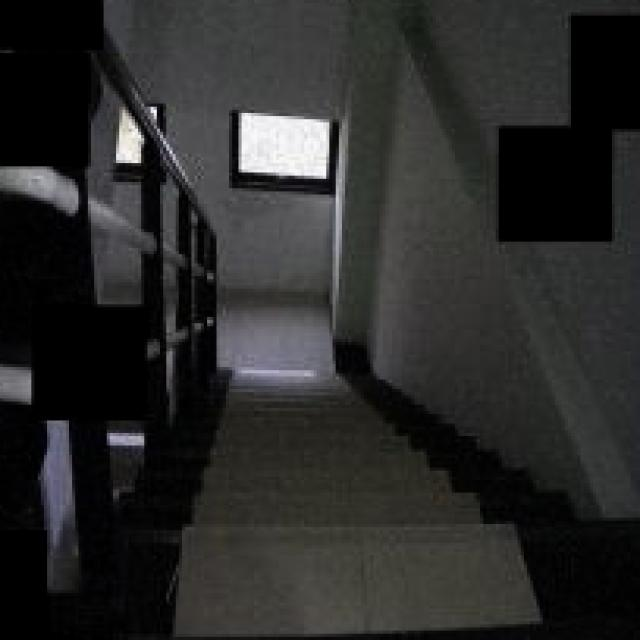downstair: (211, 346, 640, 640)
